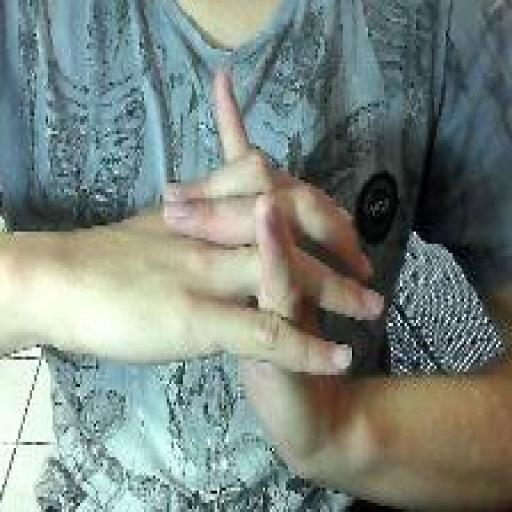Ushi -ox-: (160, 66, 389, 489)
